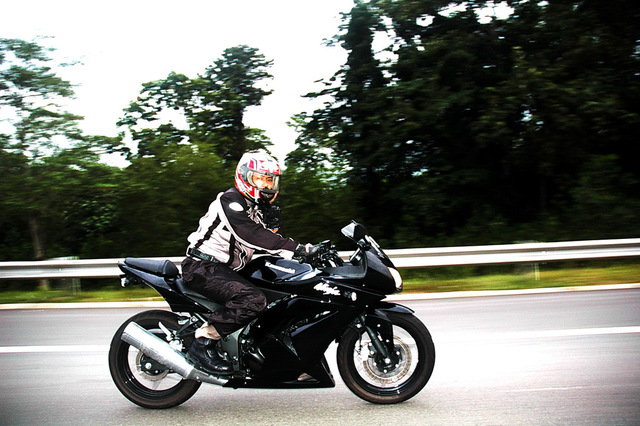helmet: (239, 146, 287, 205)
